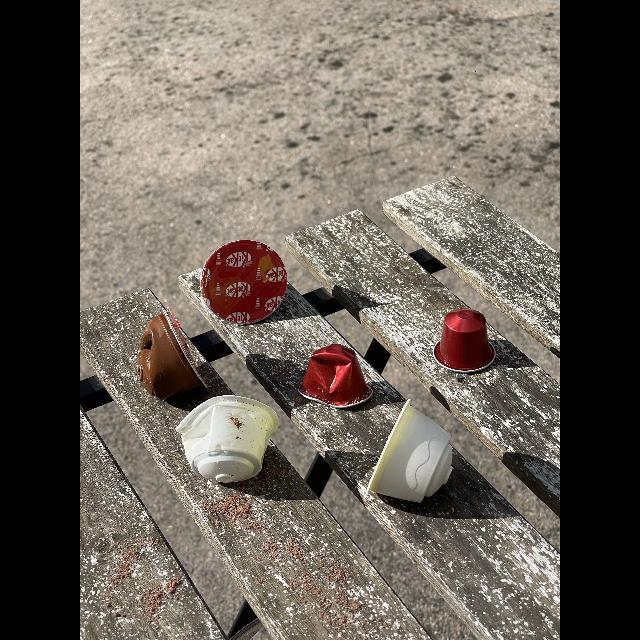damaged_capsule: (172, 390, 282, 484), (127, 301, 211, 403), (290, 342, 376, 410)
intact_capsule: (362, 396, 462, 509), (196, 237, 296, 333), (426, 304, 502, 380)
